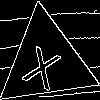X: (21, 37, 66, 91)
